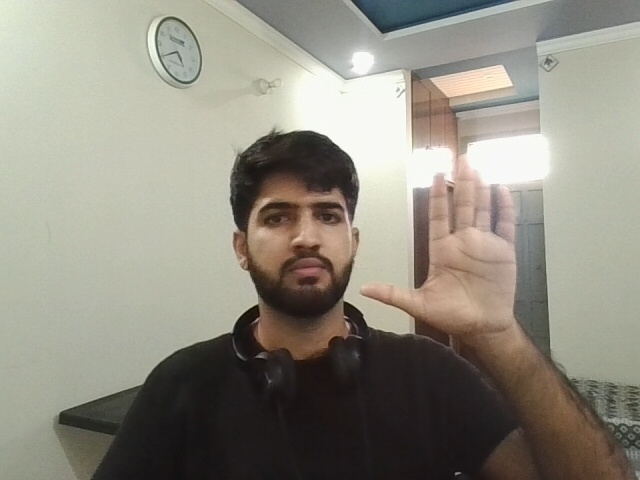Hello: (358, 154, 537, 348)
